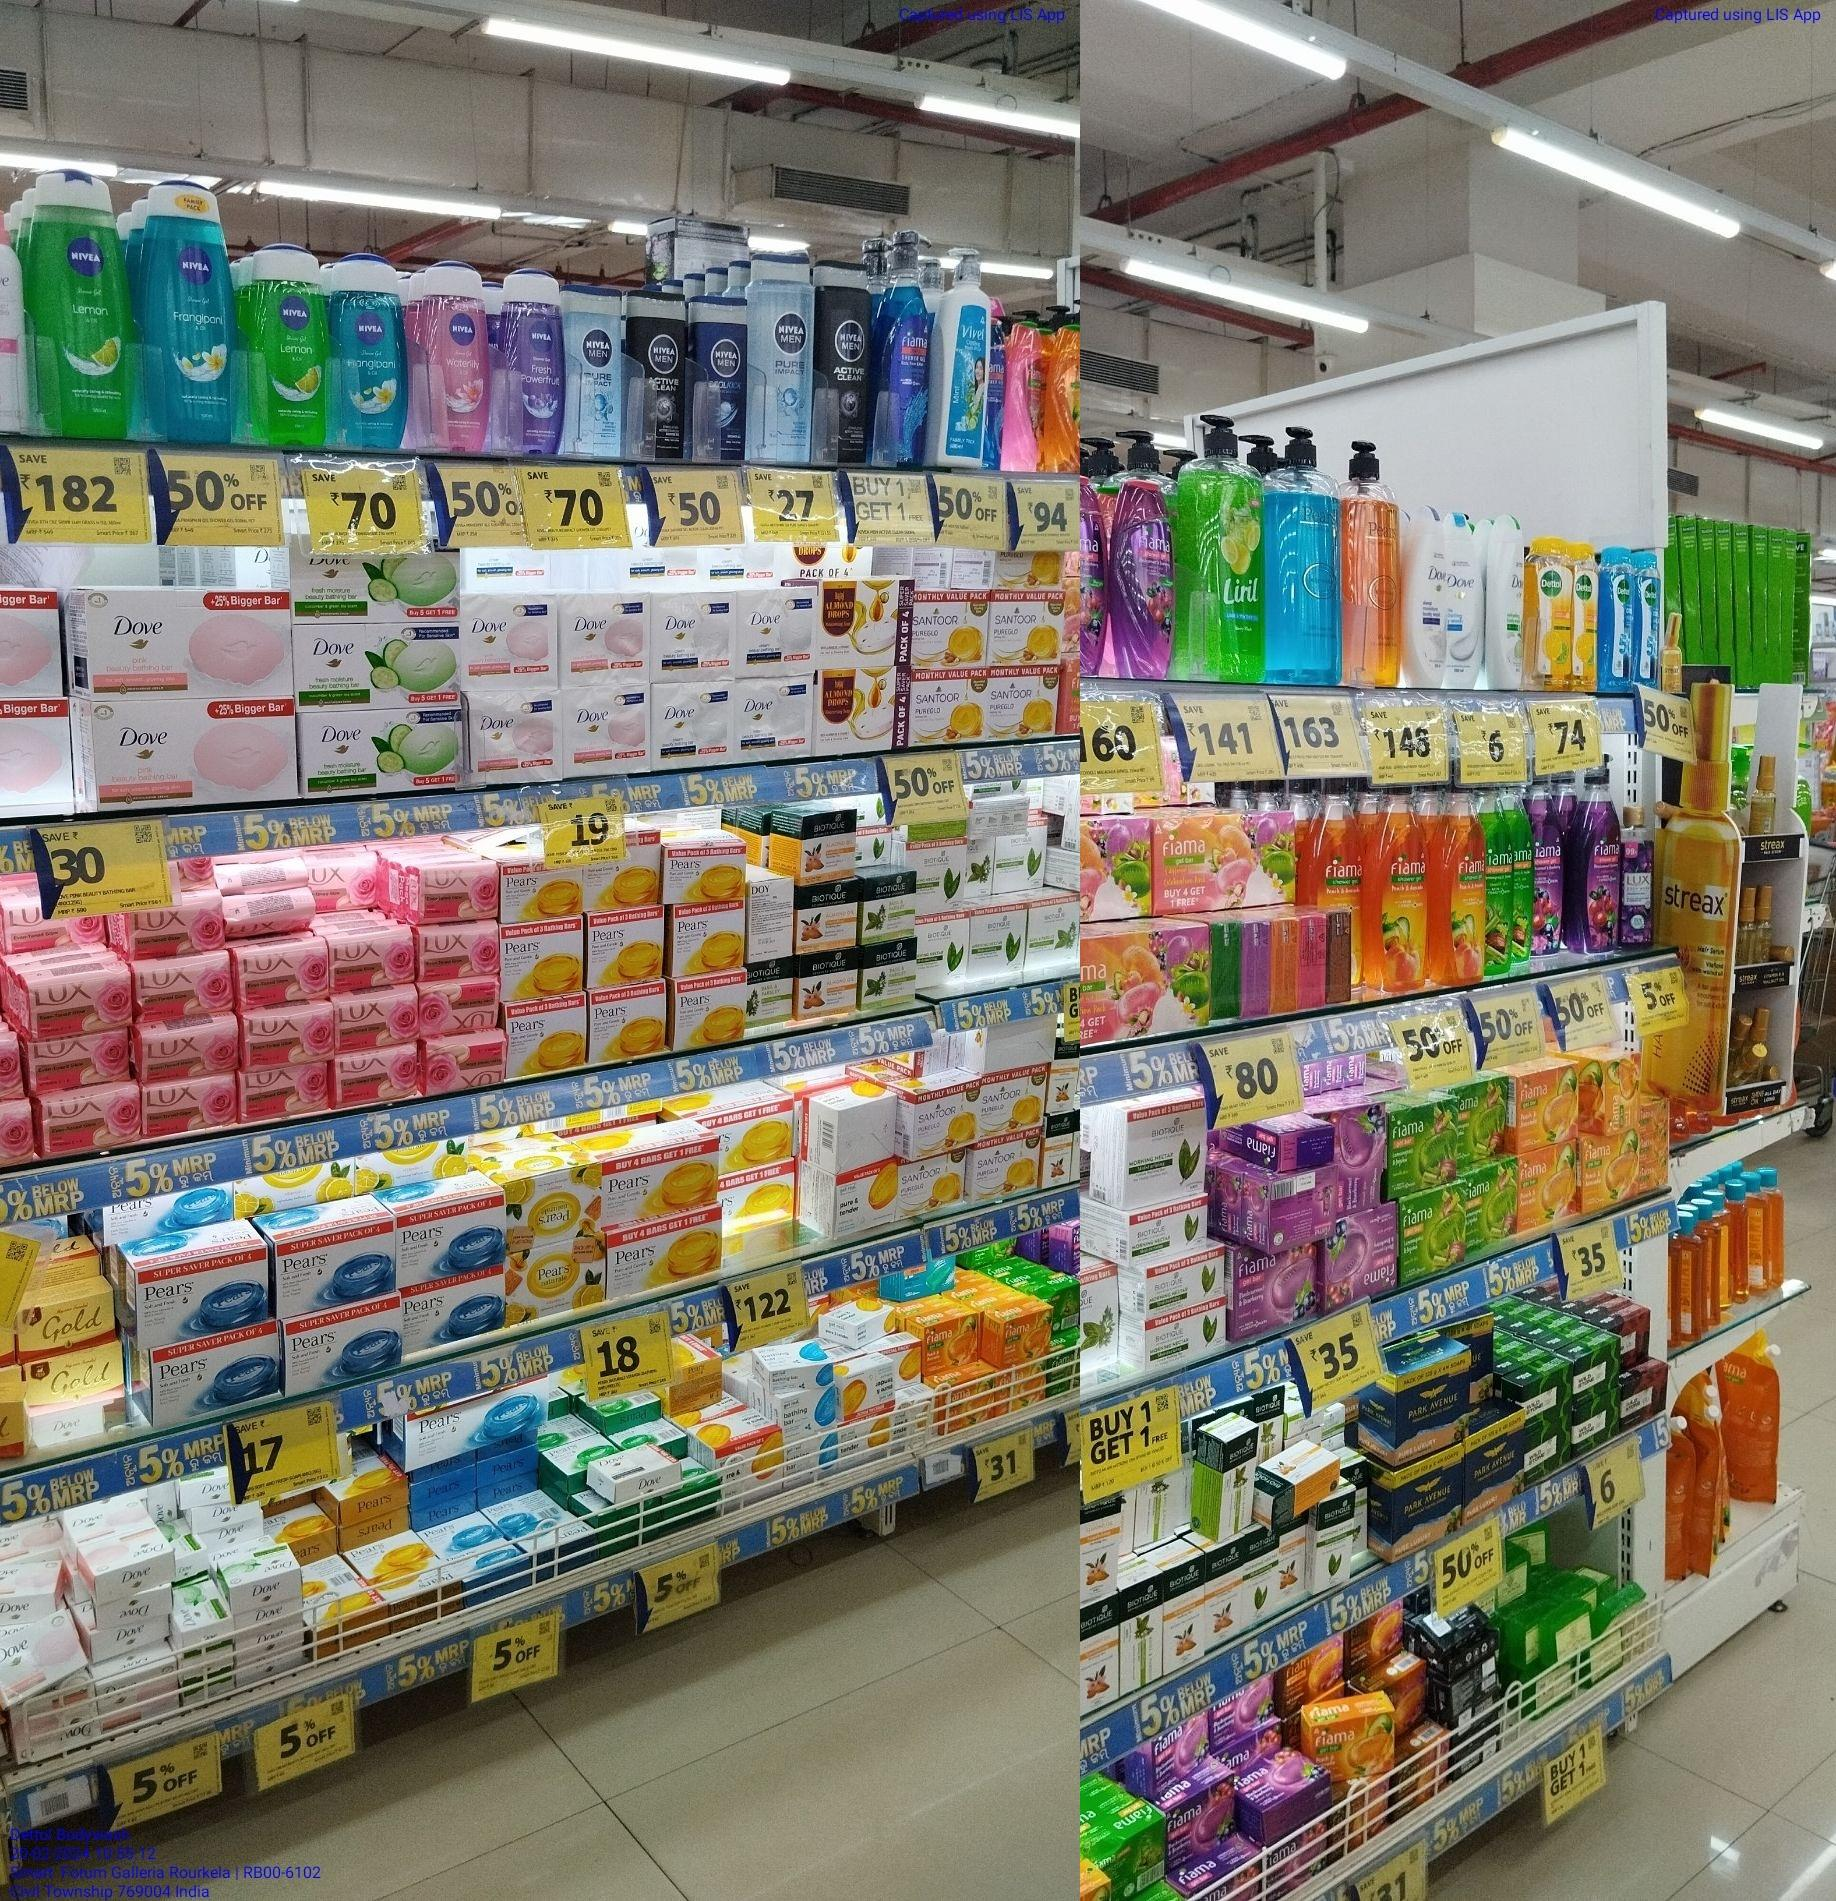Dettol_Bodywash_Cool: (1600, 548, 1632, 694), (1637, 553, 1660, 682)
Dettol_Bodywash_Refresh: (1531, 536, 1573, 693), (1575, 541, 1597, 691)
Dove_Deep_Moisture_Body_Wash_250ML: (1405, 504, 1447, 691)
Dove_Gentle_Exfoliating_Body_Wash_250ML: (1451, 521, 1485, 687)
Lux_Black_Orchid_Scent_and_Juniper_Oil_Body_Wash_245ML: (1619, 811, 1653, 945)
Nivea_Shower_Gel_Frangipani_and_Oil_250ML: (148, 175, 238, 443), (333, 256, 409, 450)
Nivea_Shower_Gel_Fresh_Powerfruit_250ML: (506, 266, 565, 453)
Nivea_Shower_Gel_Lemon_and_Oil_250ML: (31, 170, 129, 438), (255, 244, 331, 451)
Nivea_Shower_Gel_Waterlily_and_Oil_250ML: (426, 256, 490, 453)
